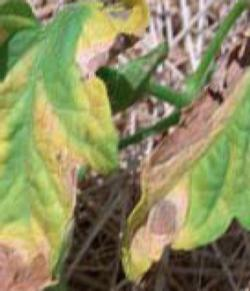Tomato Early blight leaf: (0, 1, 125, 291), (130, 60, 250, 291)
